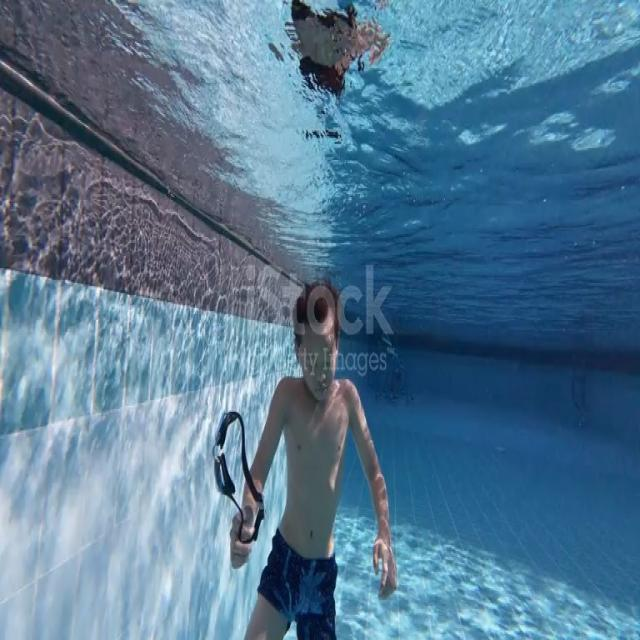Drowning: (214, 281, 396, 640)
